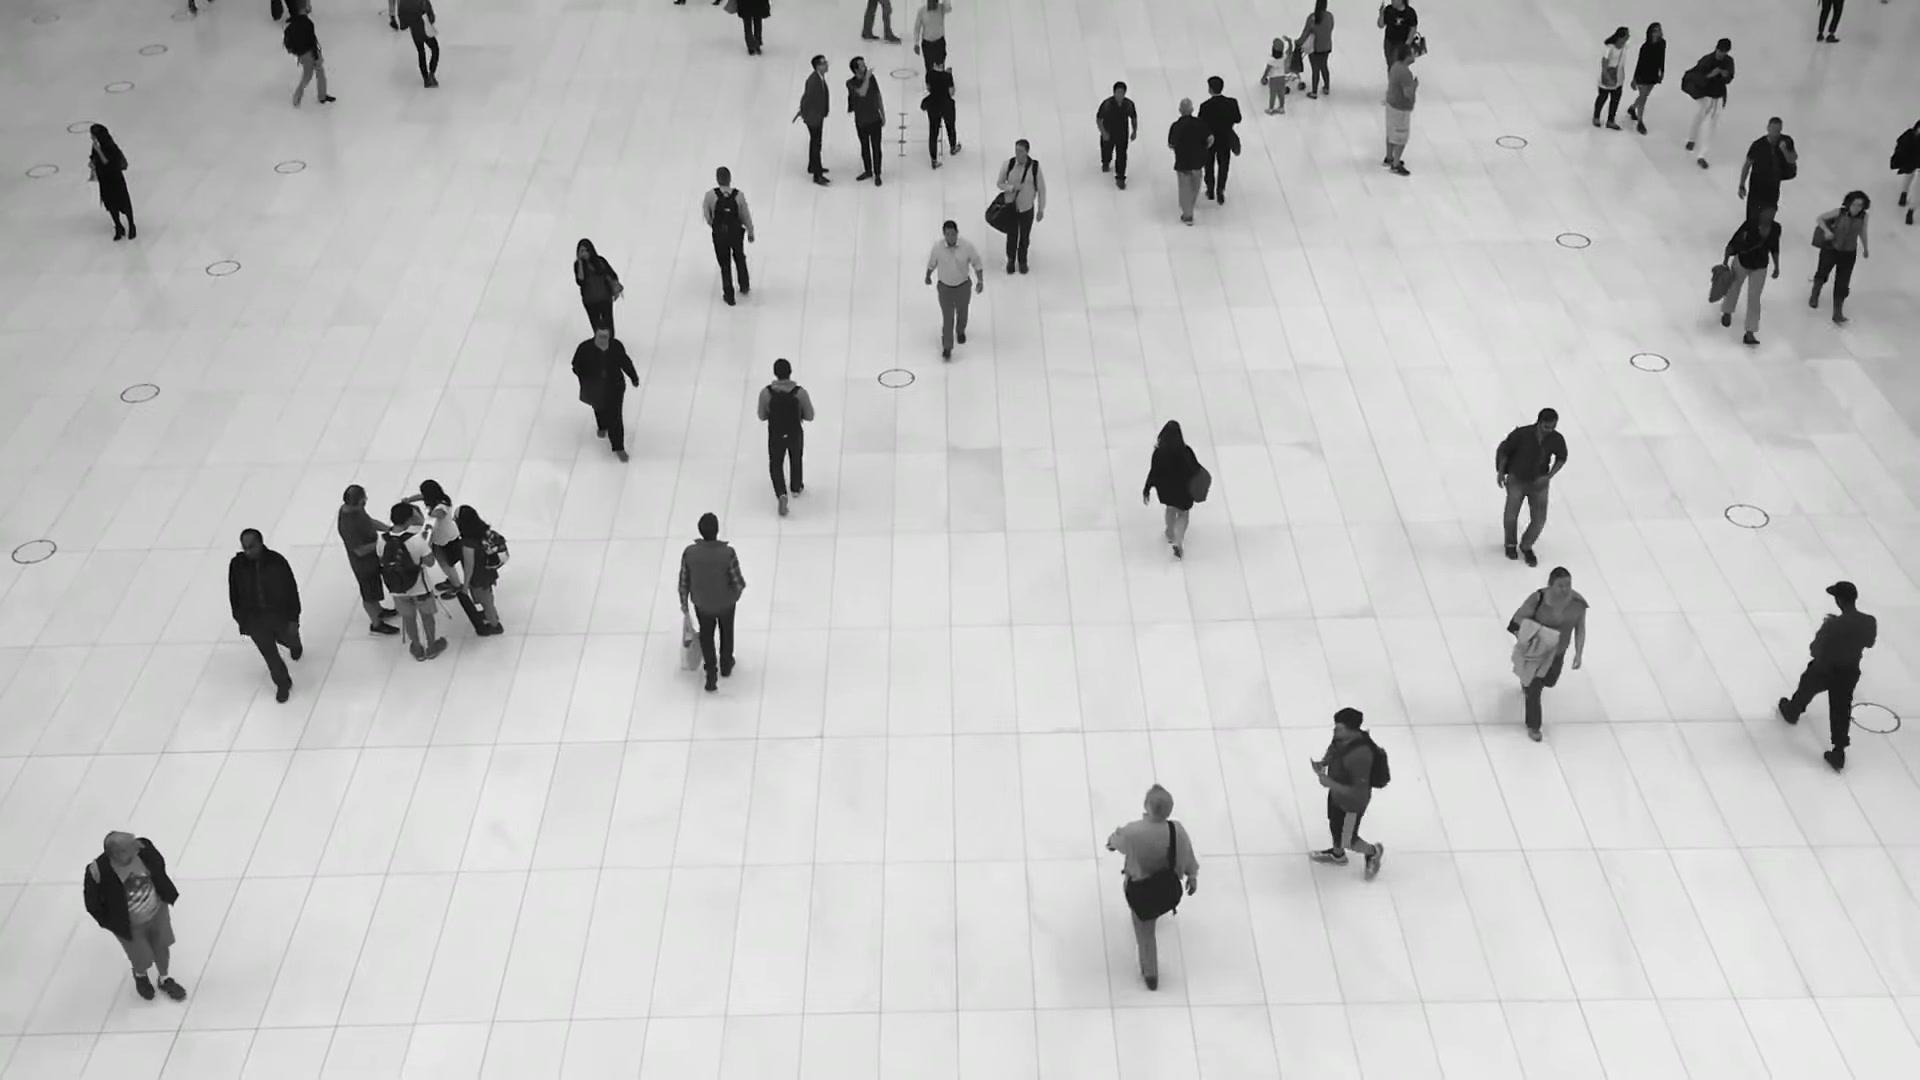person: (1107, 783, 1197, 990), (81, 830, 186, 1008), (1785, 581, 1878, 766), (1309, 708, 1395, 886), (1507, 564, 1588, 740), (228, 526, 305, 703), (676, 514, 745, 695), (1494, 407, 1568, 574), (376, 503, 448, 662), (1145, 422, 1211, 567), (337, 484, 400, 634), (571, 320, 638, 458), (1719, 201, 1782, 347), (756, 357, 814, 511), (1807, 192, 1870, 324), (925, 219, 983, 358), (700, 168, 755, 308), (995, 139, 1047, 280), (1681, 36, 1736, 166), (454, 504, 506, 637), (1737, 115, 1798, 223), (1166, 98, 1215, 225), (1197, 76, 1242, 207), (283, 0, 336, 109), (88, 123, 136, 242), (845, 56, 887, 187), (419, 479, 461, 600), (1382, 44, 1420, 177), (1095, 79, 1138, 188), (573, 238, 623, 334), (1627, 21, 1666, 134), (1591, 26, 1631, 133), (799, 54, 831, 187), (923, 51, 958, 170), (1297, 0, 1335, 100), (399, 0, 439, 88), (913, 0, 950, 80), (1377, 0, 1418, 62), (1262, 43, 1290, 115)
